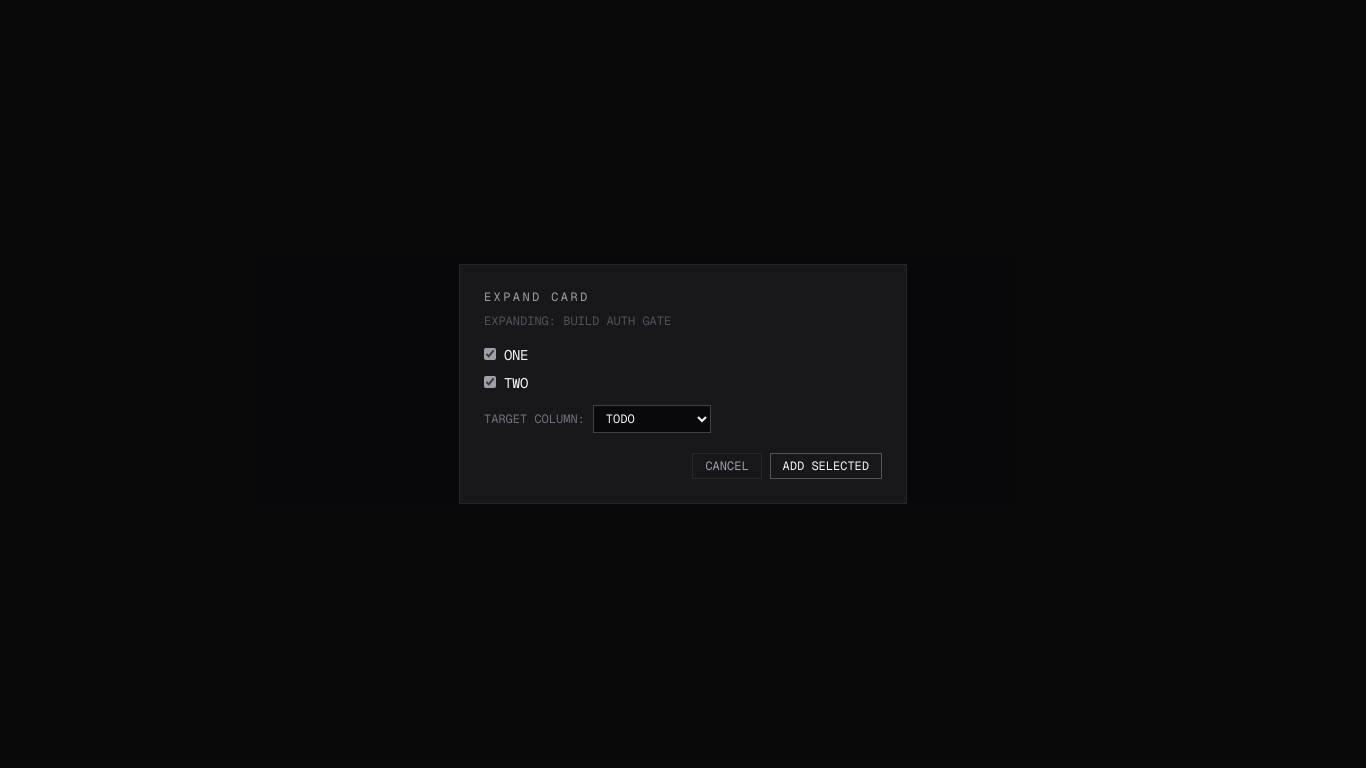
Test: ExpandCardModal › disables ADD SELECTED when no suggestions are checked
Click the checkbox labelled "One". click: (490, 354)
box: [484,348,496,360]
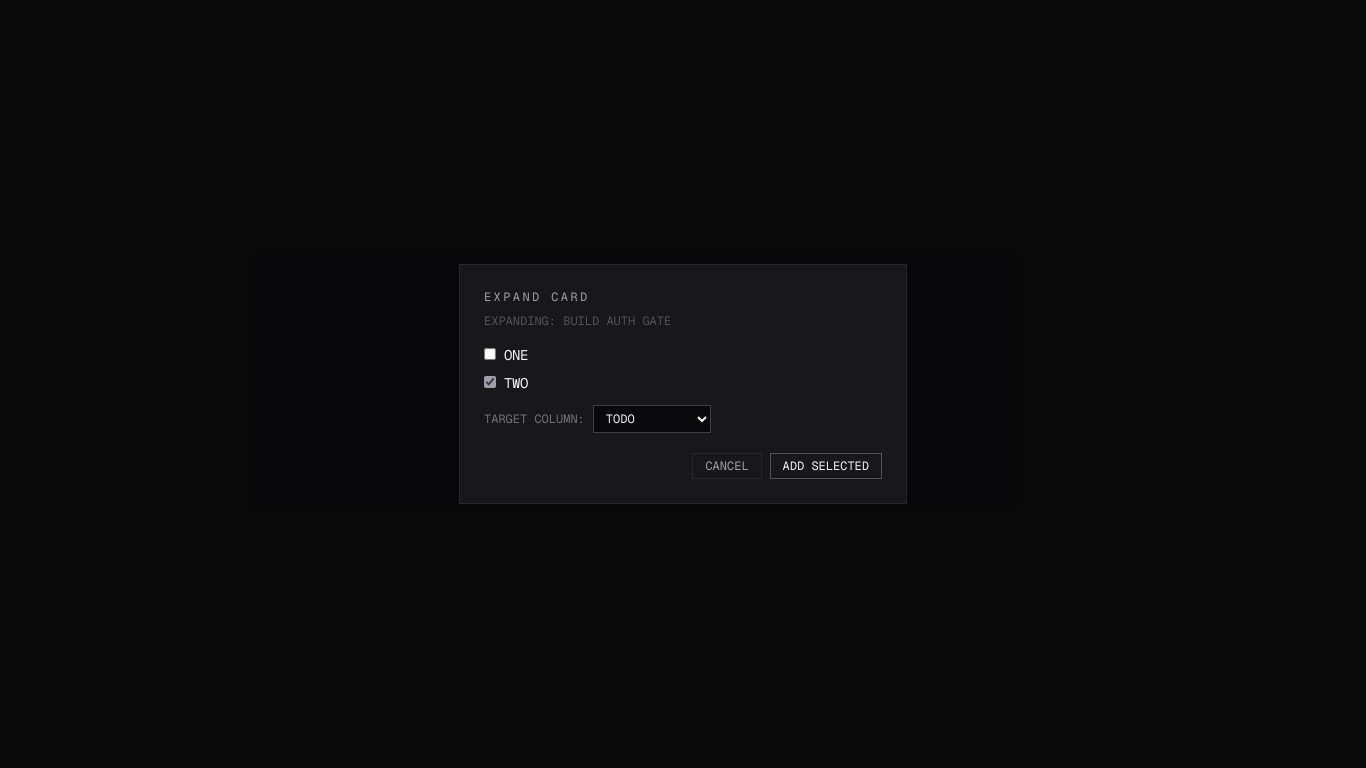
Click the checkbox labelled "Two". click: (490, 382)
box: [484,376,496,388]
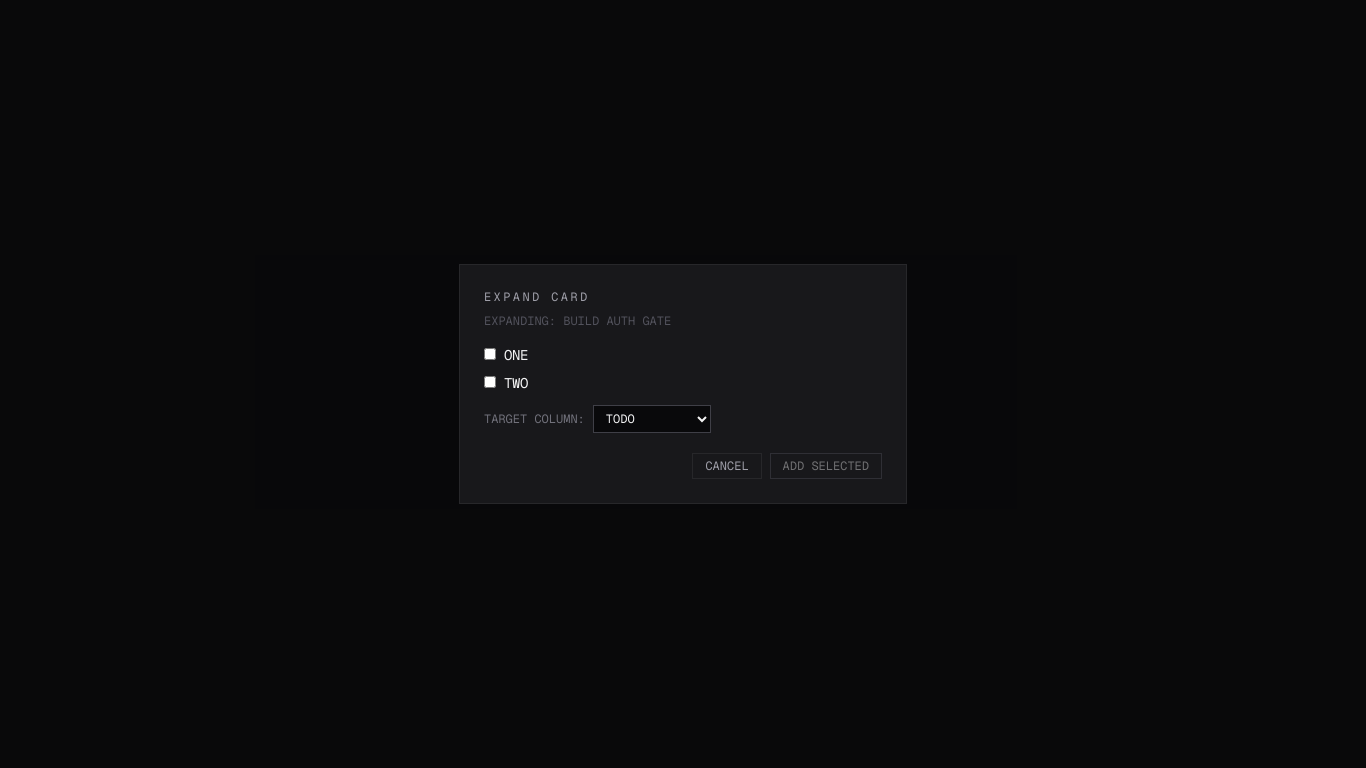
Expected: the button "Add Selected" is disabled, [770,453,882,479]
